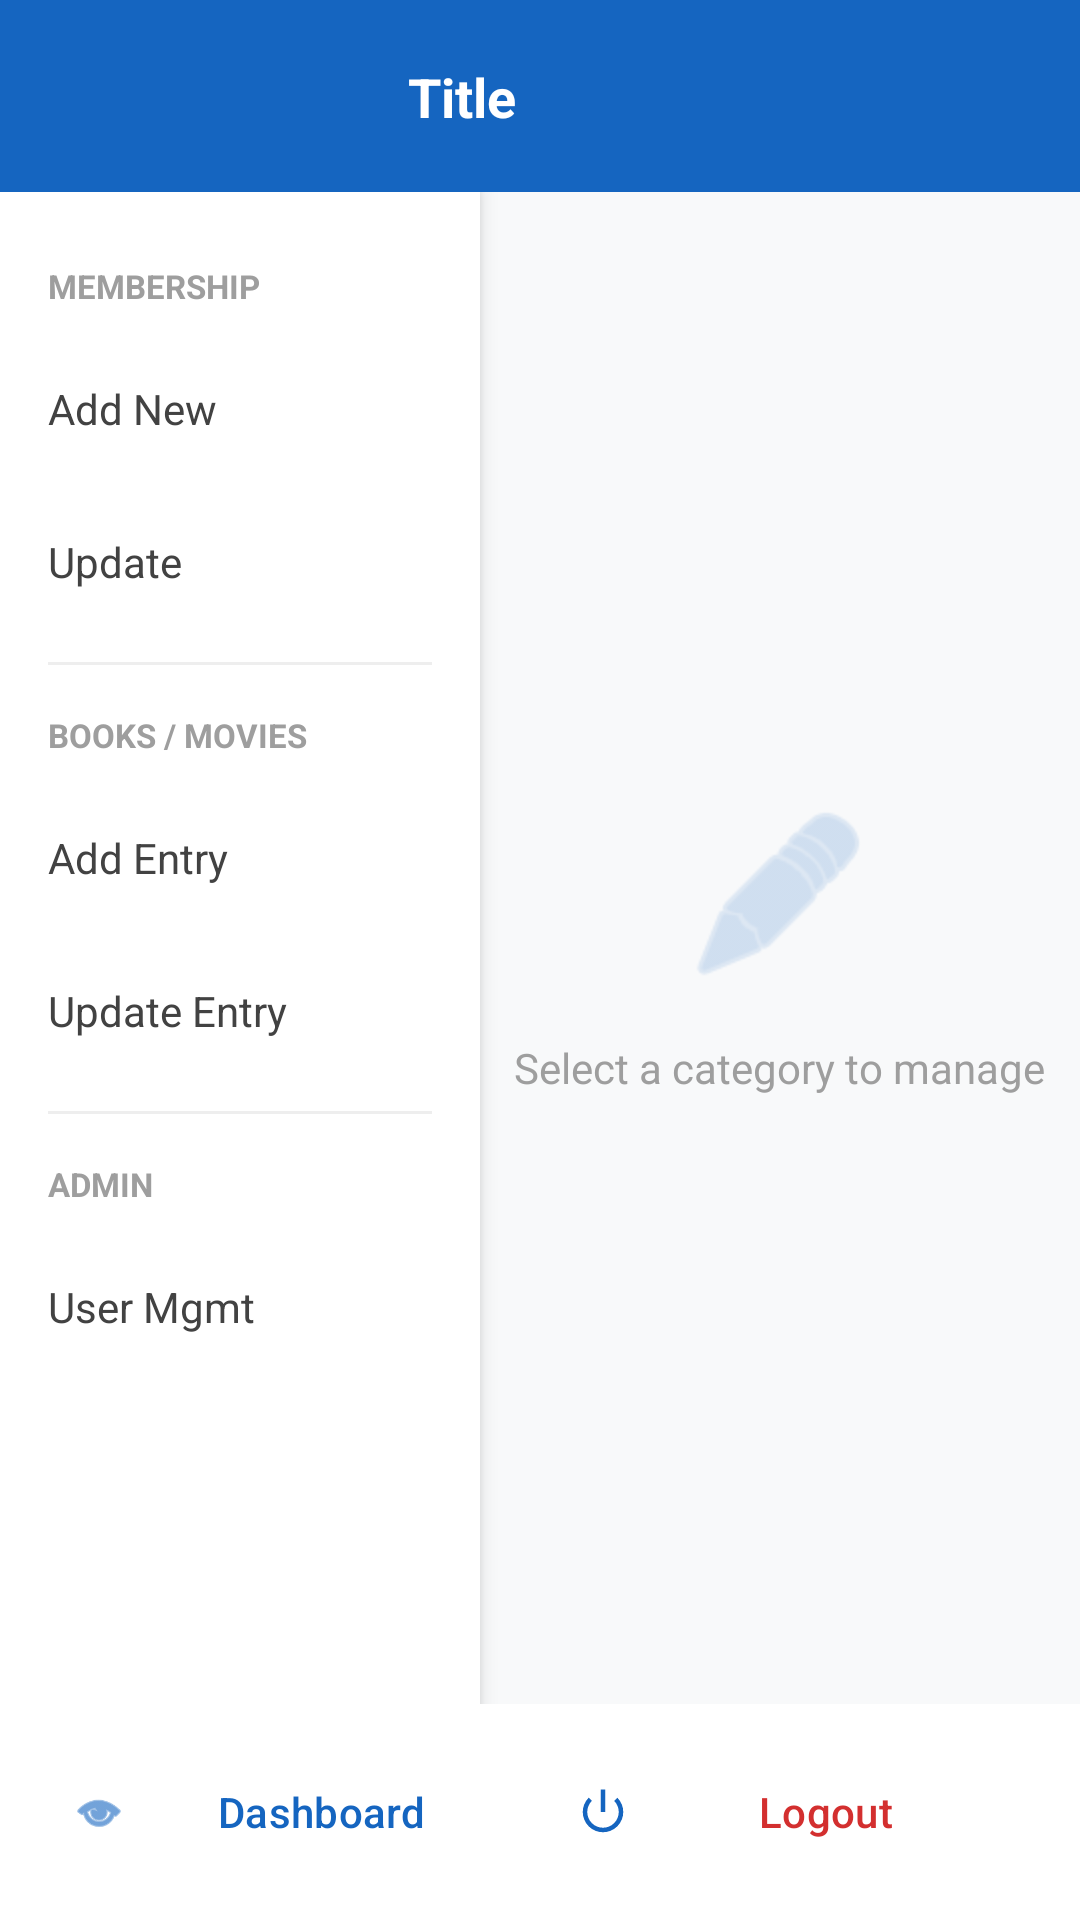

Where to tap for icons on this 1080x1920 app screen, as (x=x, y=y):
edit: (x=778, y=893)
